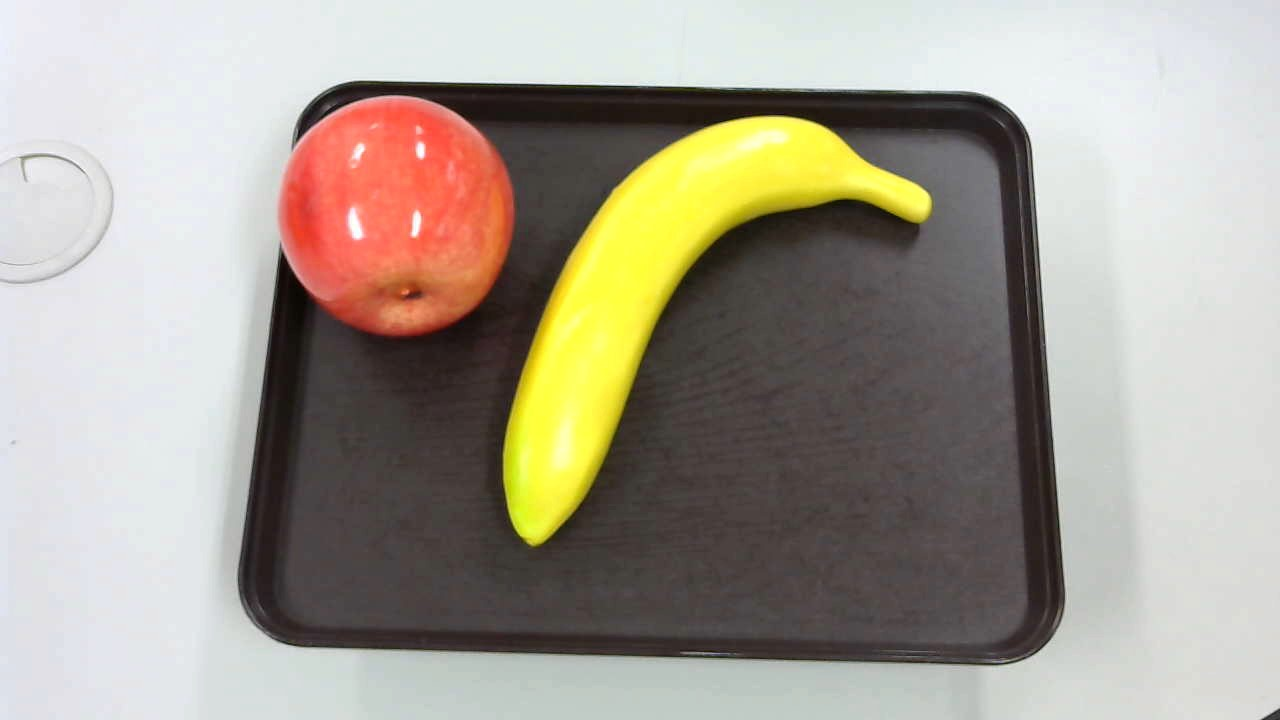banana: (493, 116, 930, 546)
red apple: (281, 91, 518, 346)
